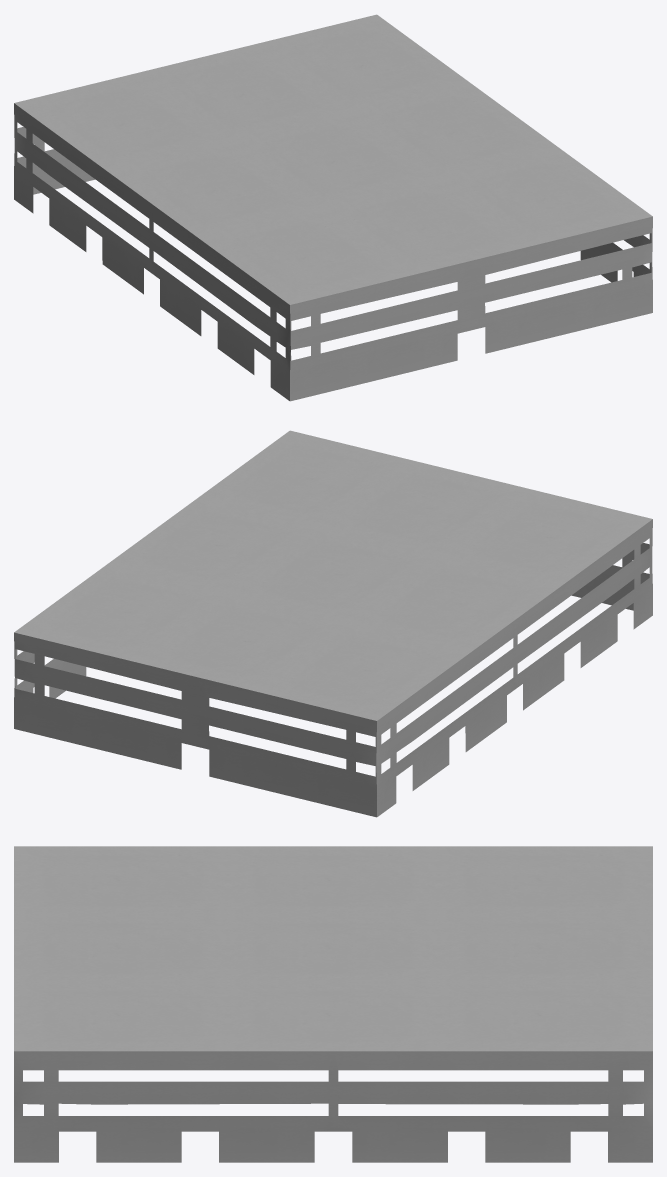
File: wall12.gltf
The picture shows the model from 3 angles, top to bottom: view 1: azimuth 30°, elevation 25°; view 2: azimuth 150°, elevation 25°; view 3: azimuth 270°, elevation 25°; orthographic projection. The views are drawn at different scales.
Parts seen in each view (by area): view 1: L2_WaiQiang_12; view 2: L2_WaiQiang_12; view 3: L2_WaiQiang_12.
Part boxes in pixels (bbox=[...]): L2_WaiQiang_12: bbox=[14, 14, 652, 401]; L2_WaiQiang_12: bbox=[14, 430, 652, 817]; L2_WaiQiang_12: bbox=[14, 846, 652, 1162].
Bounding box in the file's own units: 26.07 × 6.6 × 34.25.
1 material, 1 textured.
